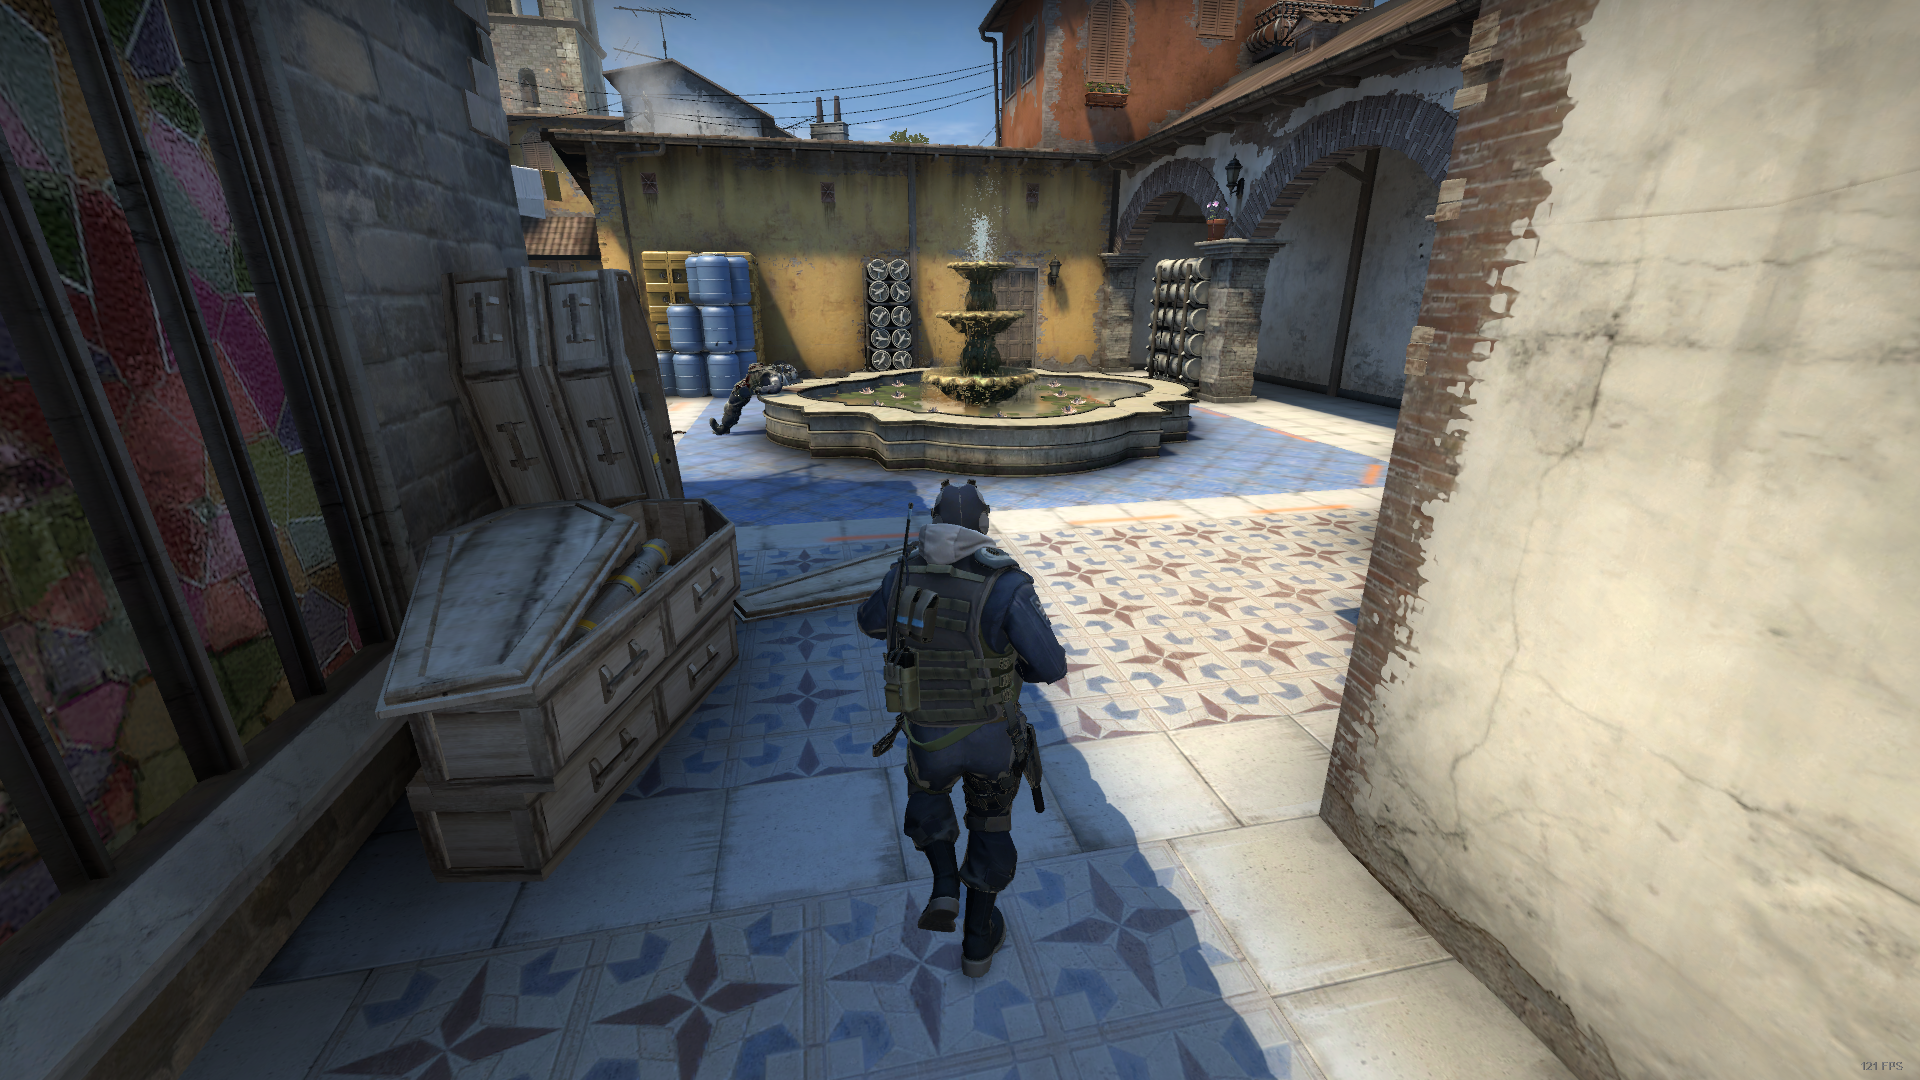ct: (853, 477, 1087, 982)
